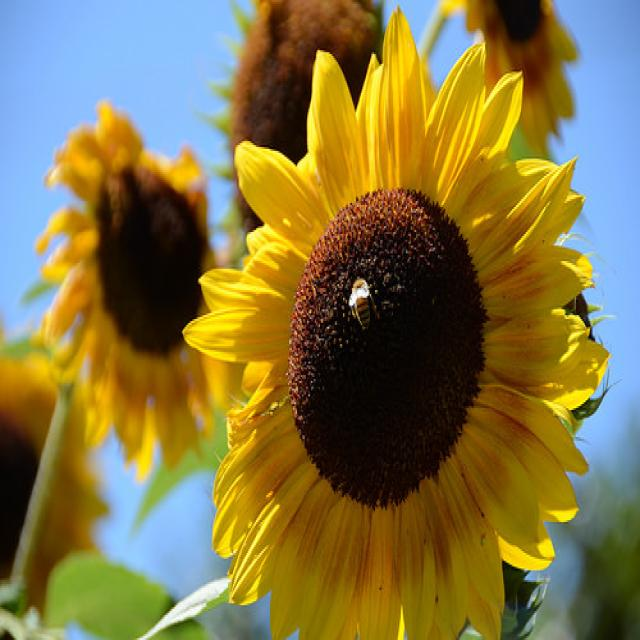sunflower: (178, 2, 614, 640), (32, 96, 251, 486)
